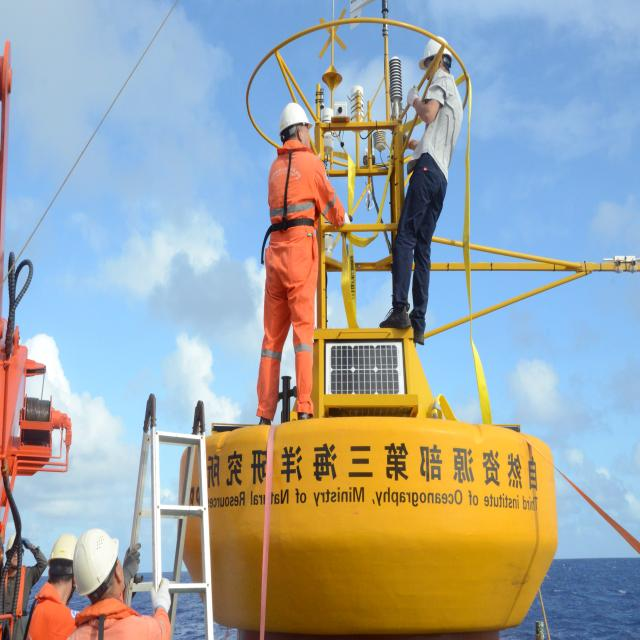buoy: (184, 0, 558, 640)
